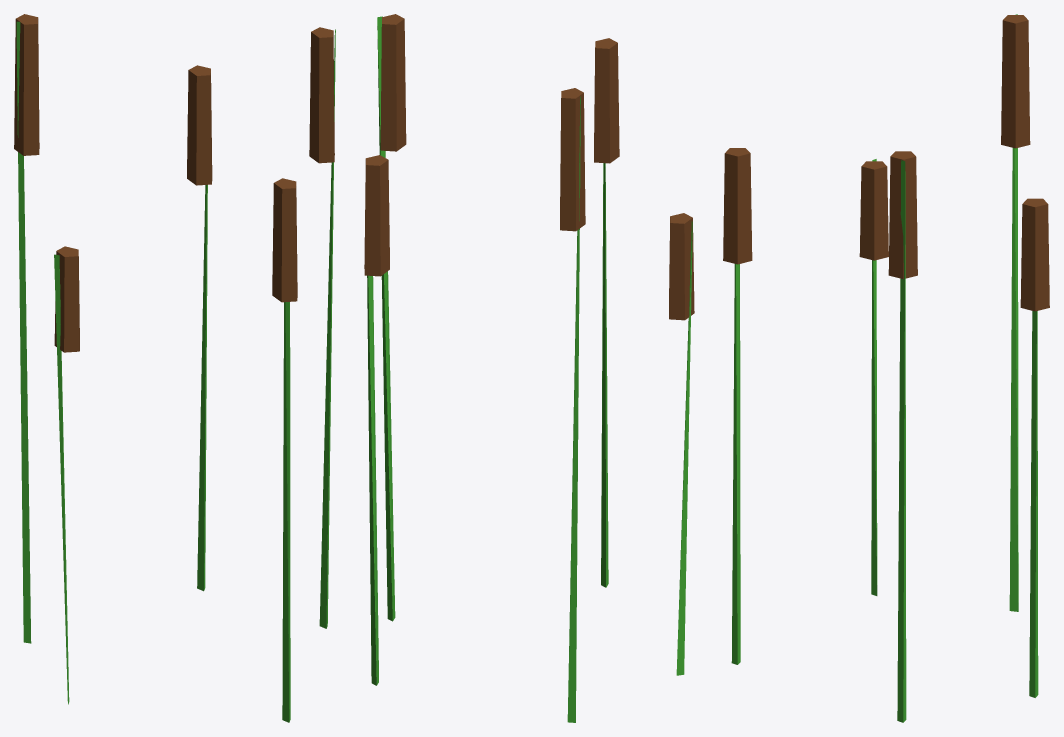
Rendered from cattail_cluster.fbx.
The picture shows the model from 3 angles, left to right: view 1: azimuth 30°, elevation 25°; view 2: azimuth 150°, elevation 25°; view 3: azimuth 270°, elevation 25°; orthographic projection. The views are drawn at different scales.
Parts seen in each view (by area): view 1: cattail_cluster; view 2: cattail_cluster; view 3: cattail_cluster.
Boxes of the visible parts, left/top/right/bottom form: cattail_cluster: left=14, top=14, right=335, bottom=722; cattail_cluster: left=364, top=14, right=694, bottom=722; cattail_cluster: left=723, top=14, right=1049, bottom=722.
Size of the model in its own units: 1 by 2 by 1.
